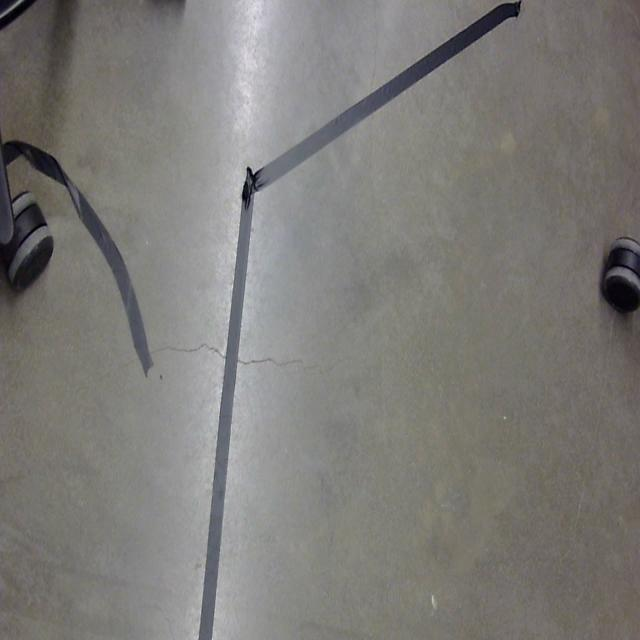tape: (176, 0, 546, 640), (0, 108, 164, 381)
